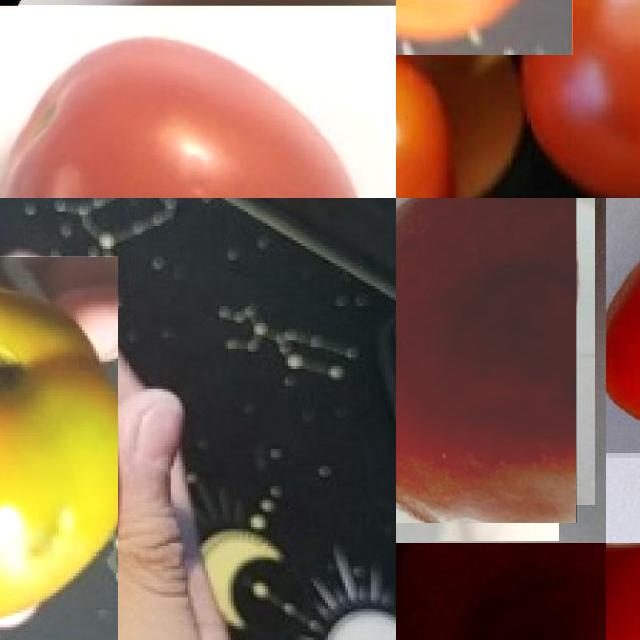1: (396, 198, 576, 523), (396, 543, 606, 640)
Fresh Tomato: (0, 5, 396, 198), (523, 0, 640, 198), (396, 18, 461, 198), (396, 0, 573, 55)
Rotten Tomato: (0, 256, 118, 640)
